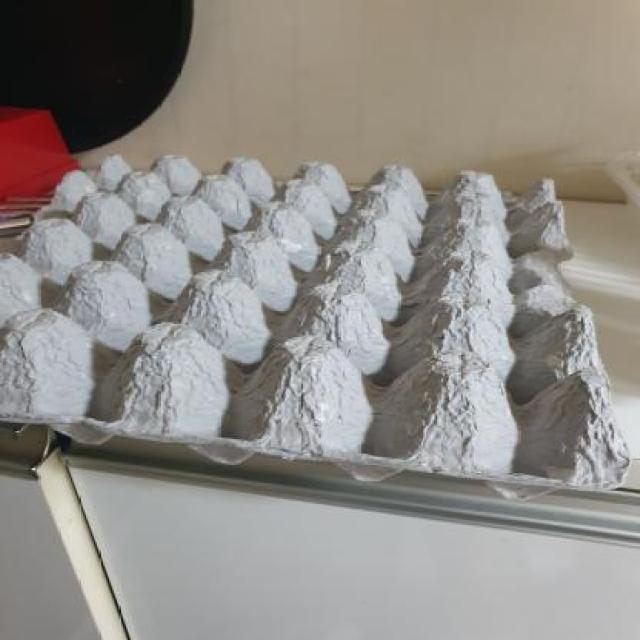box: (0, 115, 638, 520)
